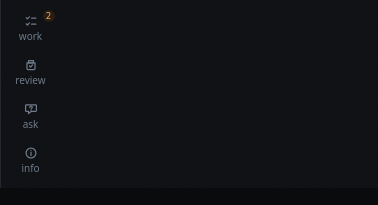
Test: desktop InspectorRail › shows a running agent's completion estimate in the row (issue #716)
Click the button "work 2". click: (30, 28)
box: [4,8,56,48]
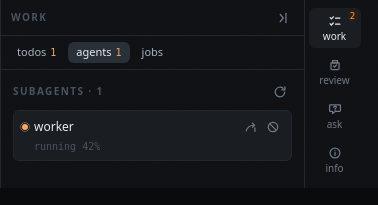
Now the text "42%" is shown, box [82,138,100,154]
